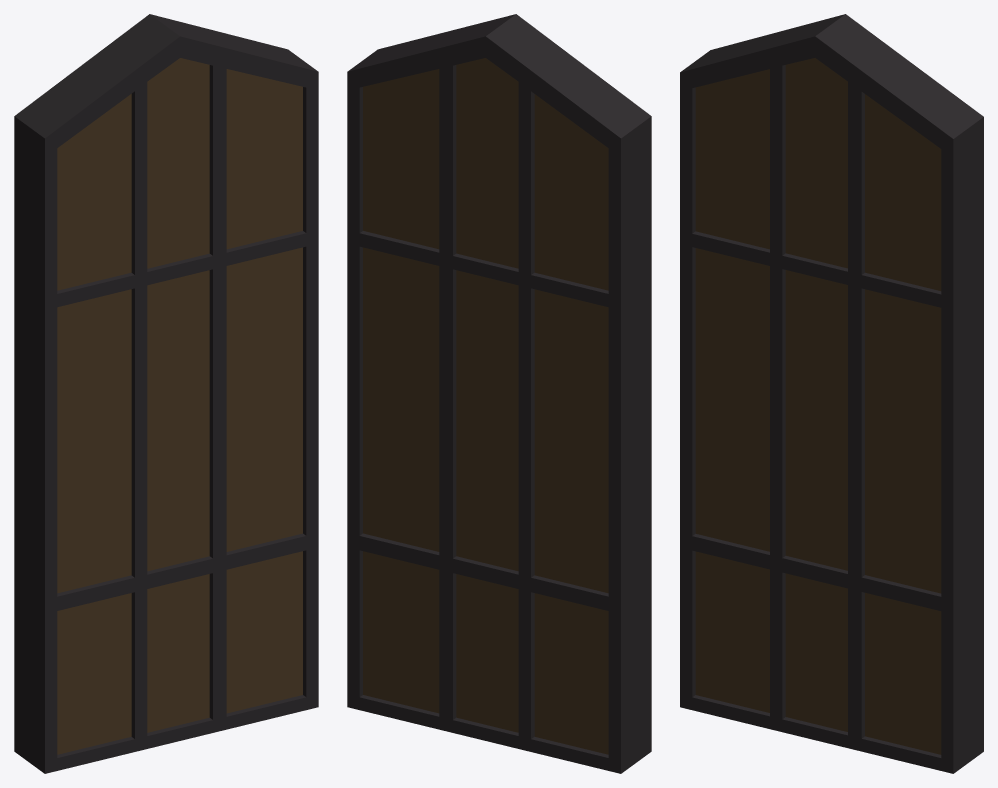
The model's file is Door with Point.fbx.
3 views of the same model, side by side, from view 1: azimuth 30°, elevation 25°; view 2: azimuth 150°, elevation 25°; view 3: azimuth 330°, elevation 25° (orthographic).
Parts seen in each view (by area): view 1: Plane.003; view 2: Plane.003; view 3: Plane.003.
Part boxes in pixels (x1=…): Plane.003: x1=14, y1=14, x2=318, y2=773; Plane.003: x1=347, y1=14, x2=651, y2=773; Plane.003: x1=680, y1=14, x2=983, y2=773.
Size of the model in its own units: 100 by 246 by 19.34.
